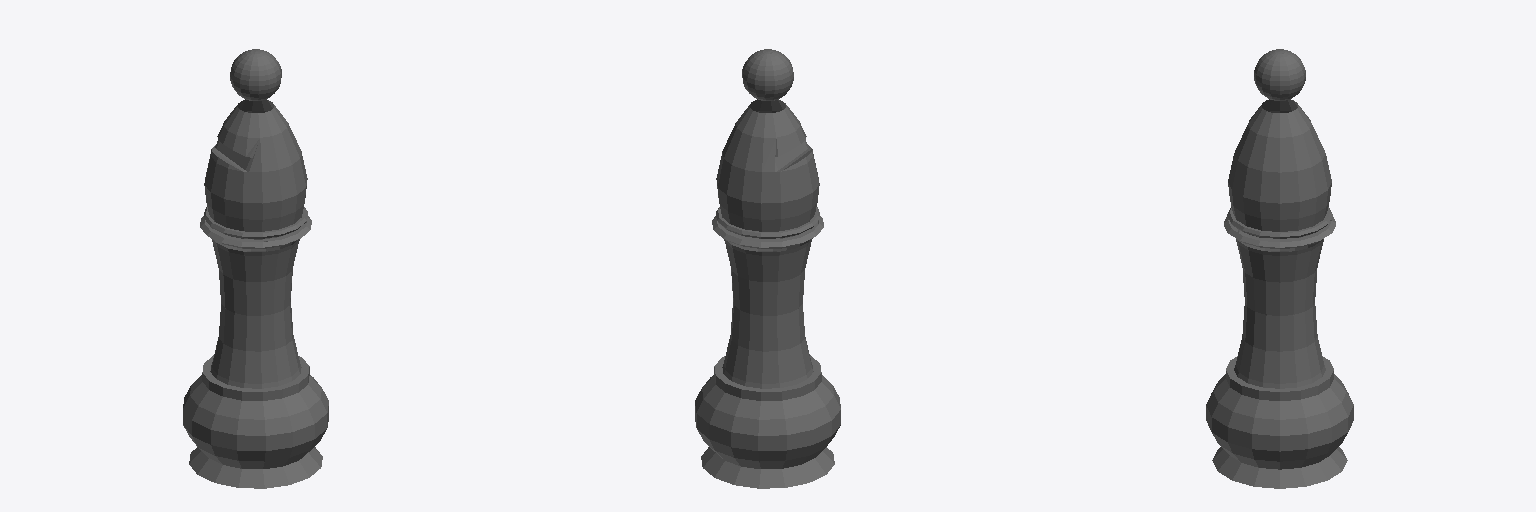
3 renders of one model, left to right at view 1: azimuth 30°, elevation 25°; view 2: azimuth 150°, elevation 25°; view 3: azimuth 270°, elevation 25°, orthographic.
Parts seen in each view (by area): view 1: bishop.003_Circle.006; view 2: bishop.003_Circle.006; view 3: bishop.003_Circle.006.
Boxes of the visible parts, x1,y1,x2,y2 form: bishop.003_Circle.006: [183, 49, 328, 488]; bishop.003_Circle.006: [695, 49, 840, 488]; bishop.003_Circle.006: [1206, 49, 1353, 488].
Bounding box in the file's own units: 1.18 × 3.6 × 1.18.